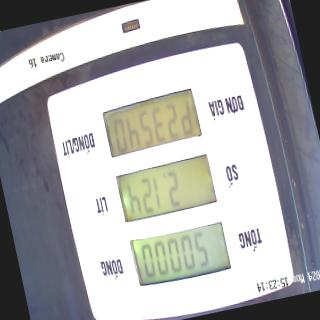screen: (98, 82, 235, 294)
